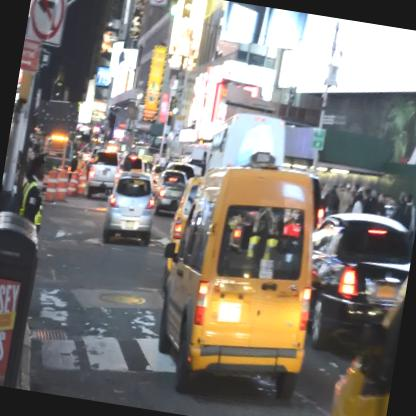car: (149, 156, 330, 406), (298, 204, 415, 359), (101, 170, 160, 250), (84, 150, 121, 199), (154, 168, 185, 214)
